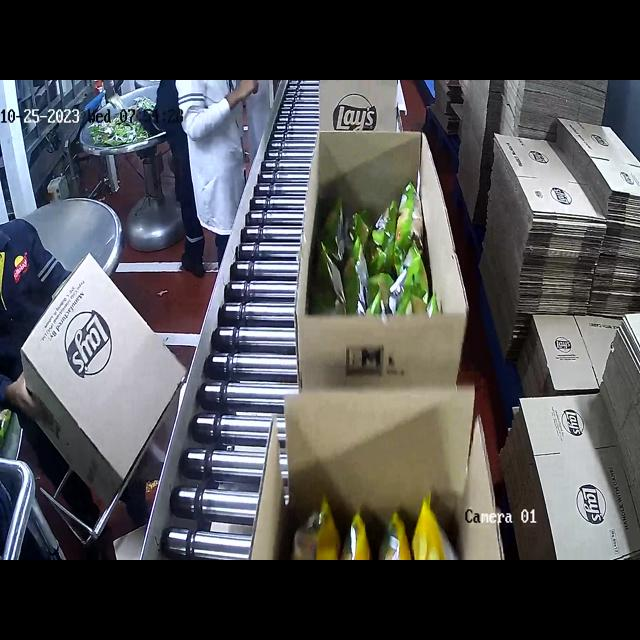salted: (291, 476, 463, 560)
yogurt: (323, 183, 428, 309)
